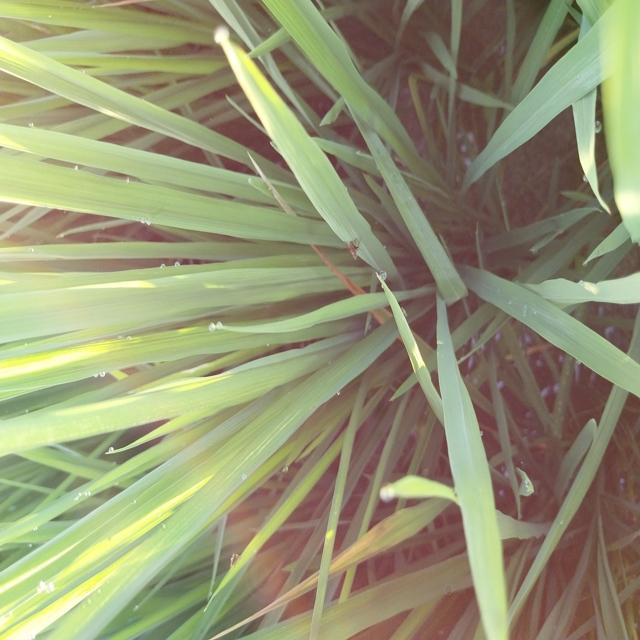healthy: (339, 235, 367, 263)
